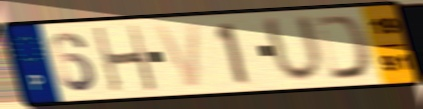1: (214, 20, 251, 87)
6: (50, 30, 99, 94)
D: (312, 13, 375, 82)
H: (91, 23, 160, 95)
U: (259, 12, 328, 86)
V: (151, 21, 204, 90)
